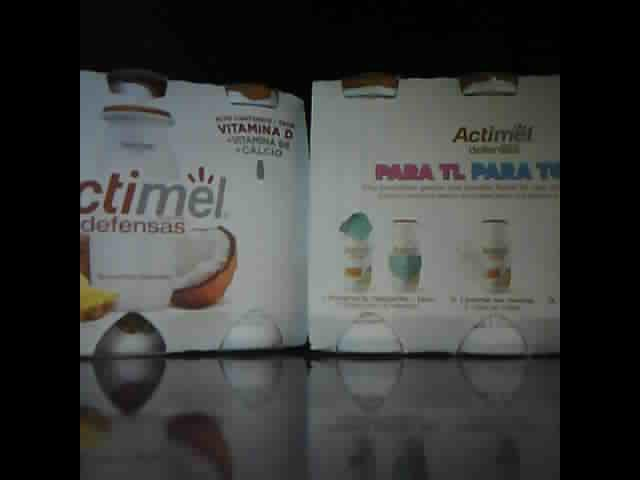actimel: (309, 71, 560, 359), (81, 65, 307, 353)
